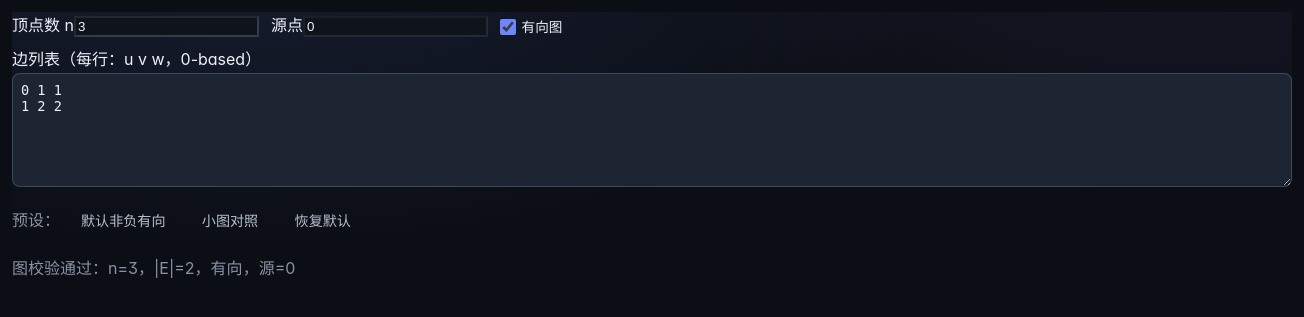
V7 R2 GraphInput n/start › restore default restores raw text + canRun
The width and height of the screenshot is (1304, 317).
Replace the text in the field with test id "graph-n" with "abc": [166, 26] box top-left (74, 16), bottom-right (259, 37)
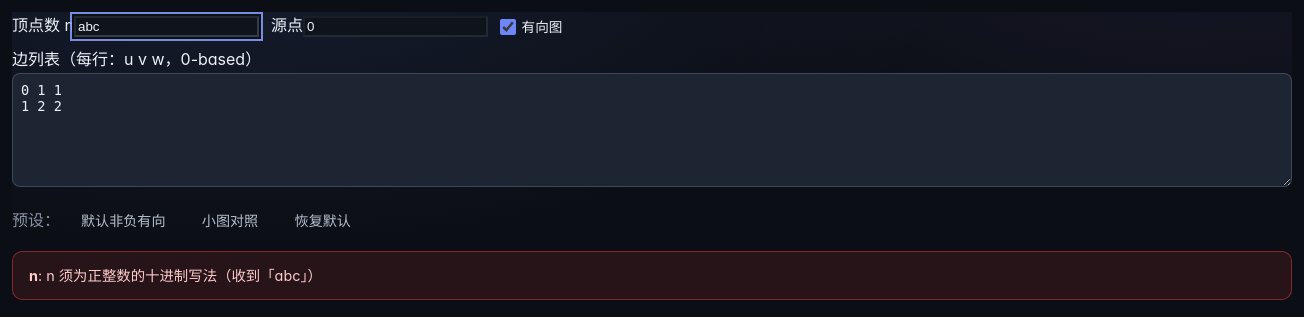
Click the button with test id "graph-restore-default": [323, 220] box top-left (279, 202), bottom-right (366, 239)
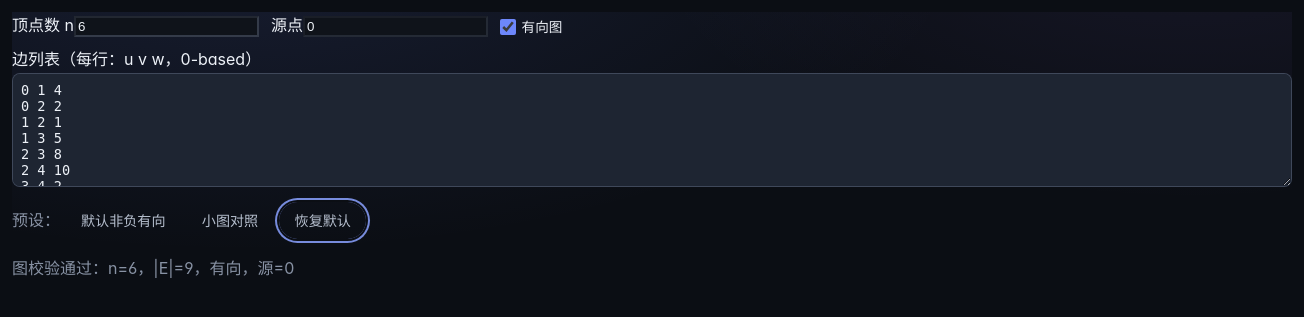
Result: the field with test id "graph-n" does not hold "abc" at top-left (74, 16), bottom-right (259, 37)
